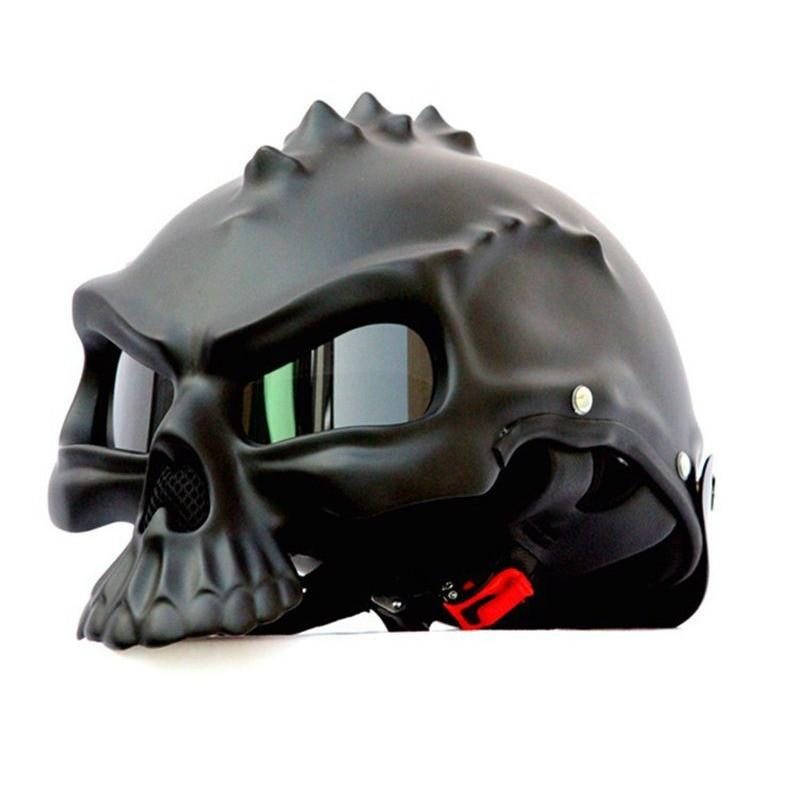with_helmet: (40, 85, 727, 658)
